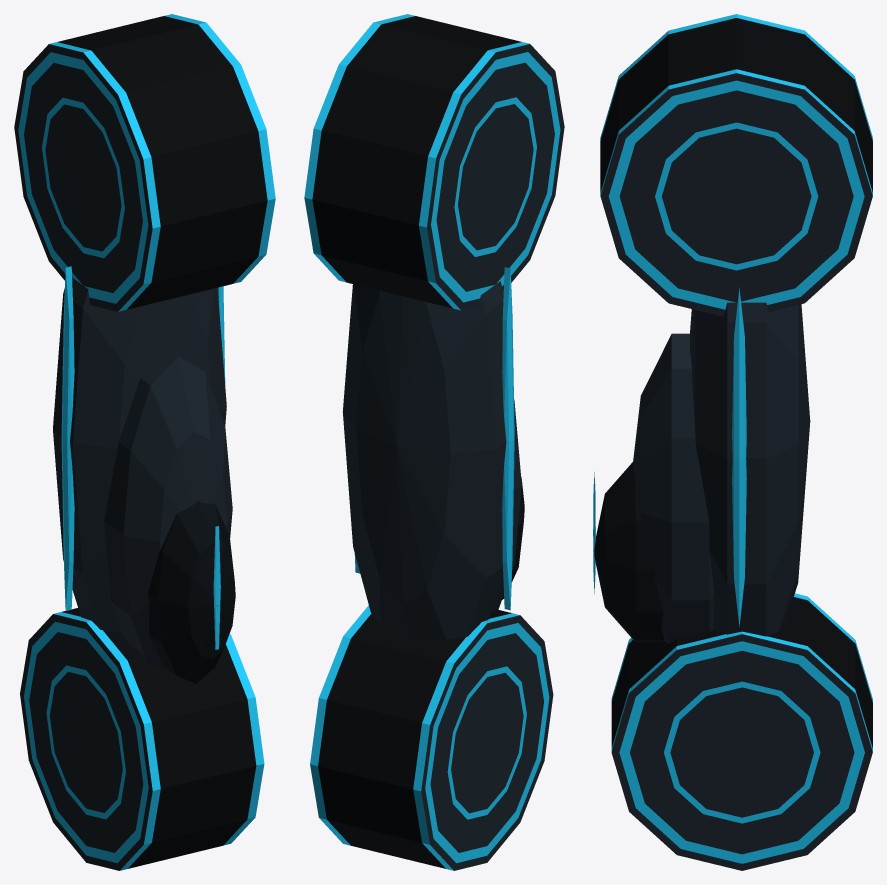
File: lightcycle-low.obj
3 renders of one model, left to right at view 1: azimuth 30°, elevation 25°; view 2: azimuth 150°, elevation 25°; view 3: azimuth 270°, elevation 25°, orthographic.
Size of the model in its own units: 2 by 9.6 by 3.04.
